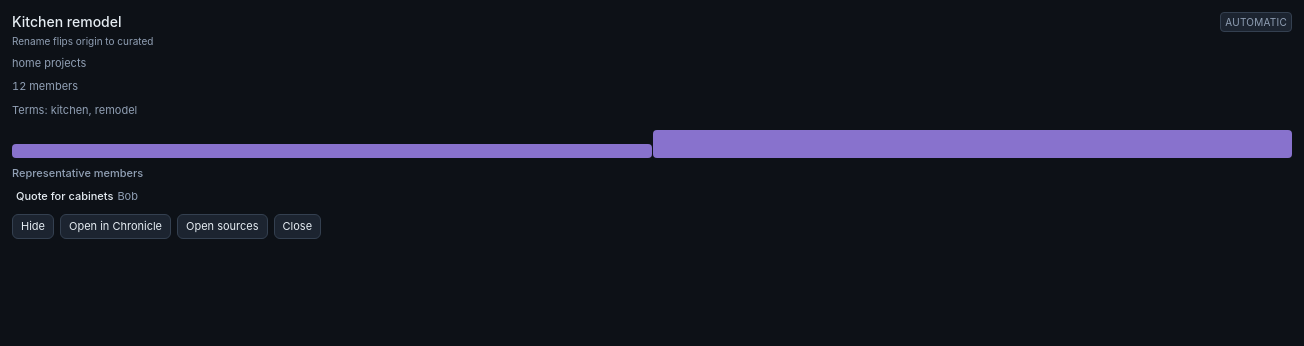
Test: InspectorPanel flow › representative member click → source (message) selection
The width and height of the screenshot is (1304, 346).
What coordinates should you click on to do the following:
click the button with test id "topic-member-msg_topic_rep"
I would click on:
 (65, 196)
Its box is [12,187,1292,206].
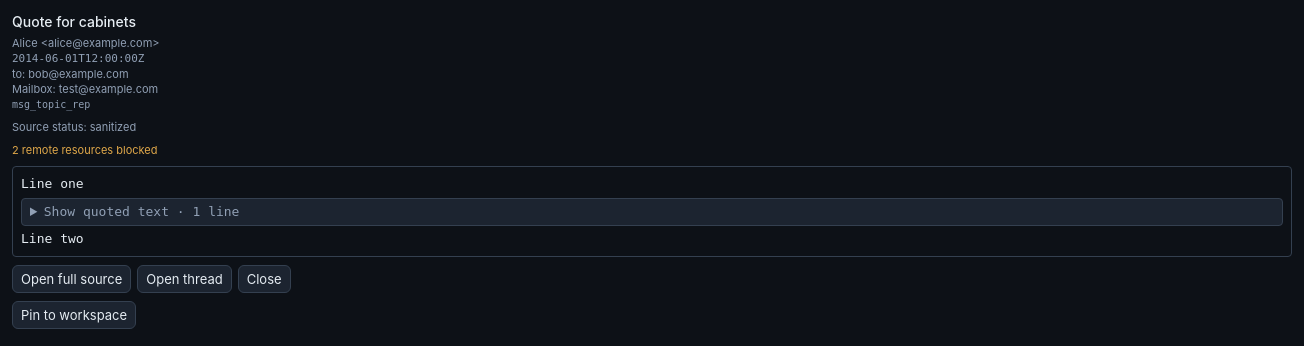
Result: the element with test id "message-card" is shown
